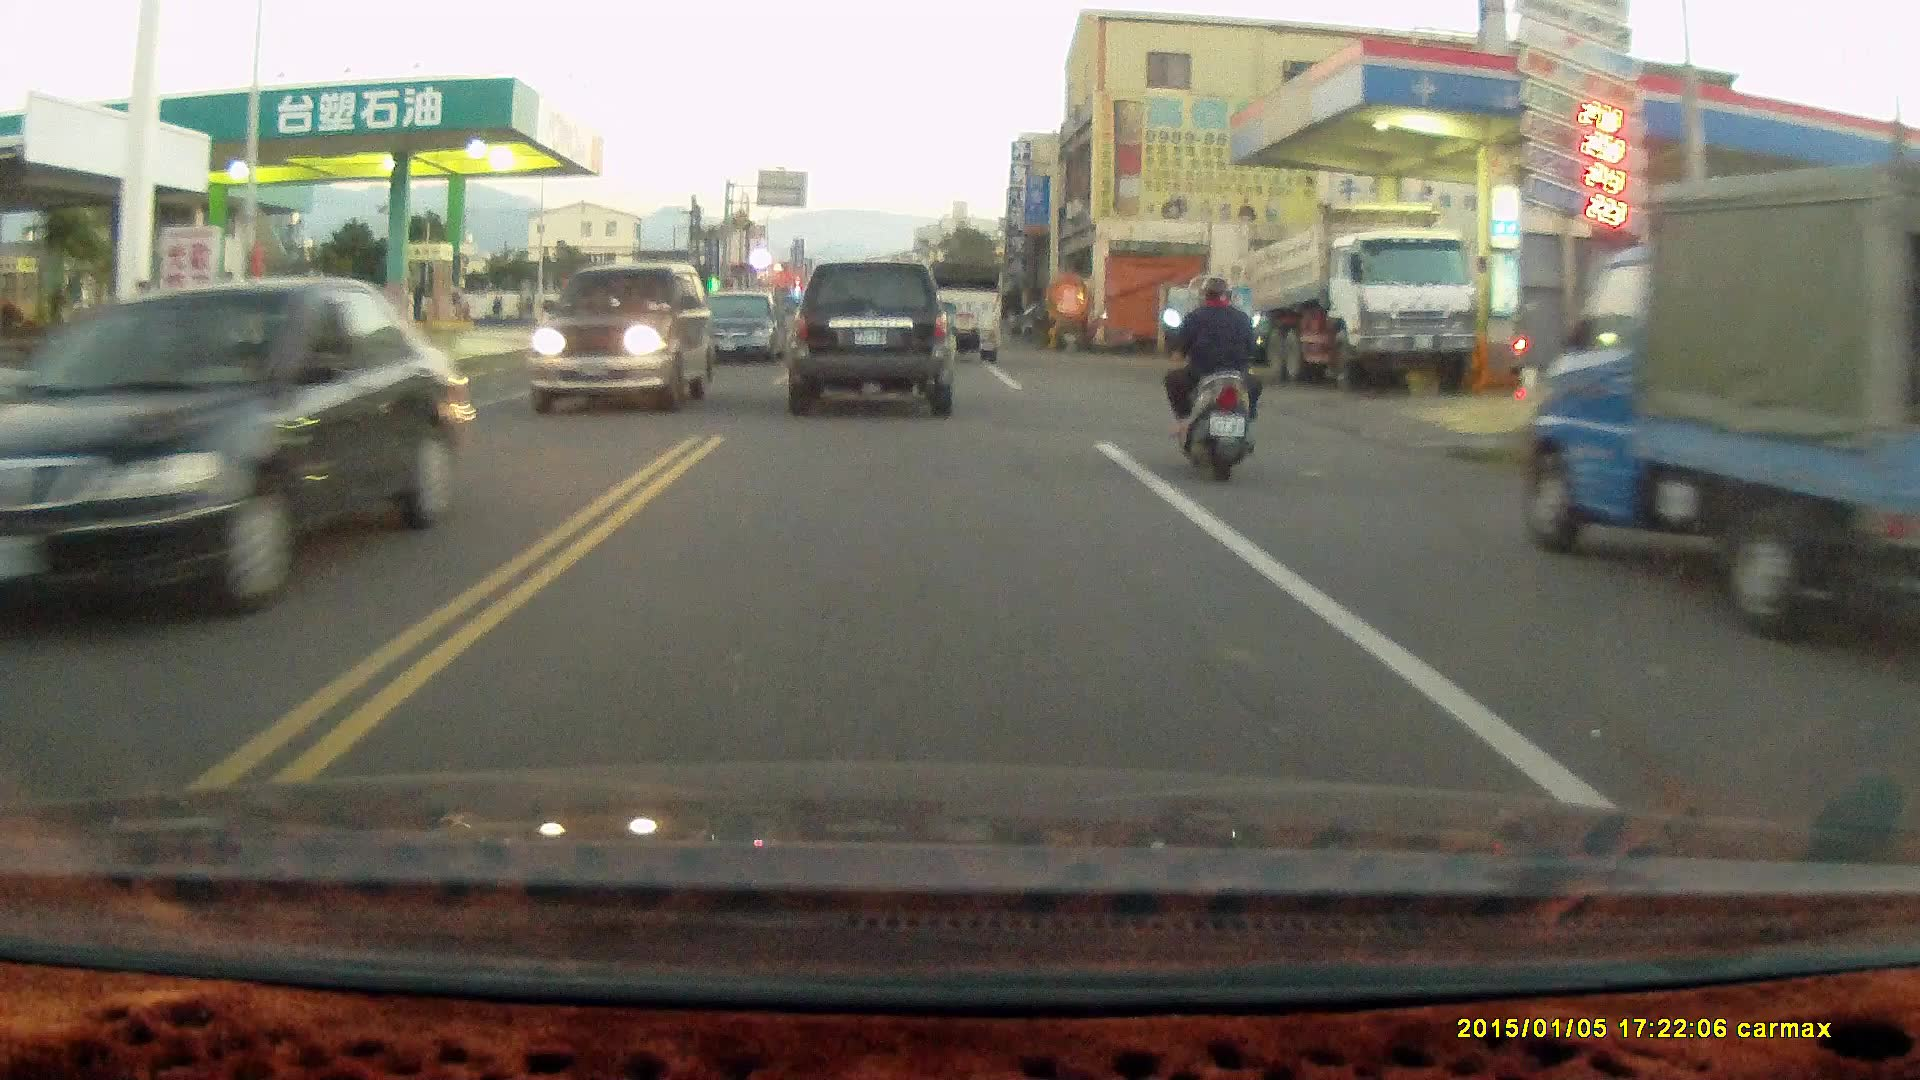rider: (1159, 273, 1266, 485)
vehicle: (1523, 162, 1920, 650), (1, 273, 471, 622), (1234, 192, 1478, 388), (530, 259, 710, 416), (789, 258, 955, 414), (914, 259, 1006, 365), (699, 290, 790, 364)
